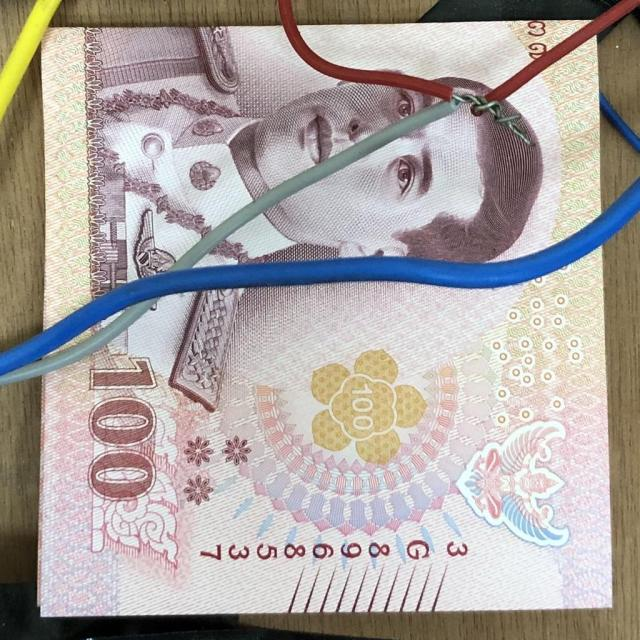THAI100: (40, 248, 611, 615), (41, 26, 438, 326), (196, 40, 601, 268), (301, 22, 583, 94)
